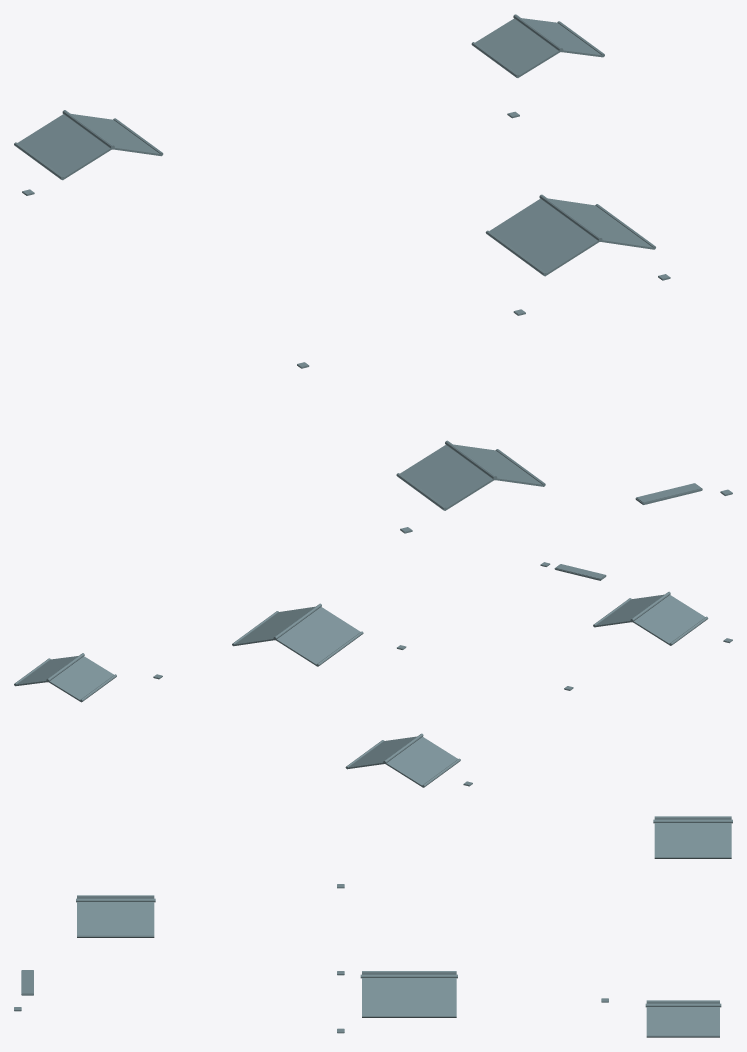
The model's file is SM_Roof.fbx.
3 views of the same model, one above another, from view 1: azimuth 30°, elevation 25°; view 2: azimuth 150°, elevation 25°; view 3: azimuth 270°, elevation 25° (orthographic). The views are drawn at different scales.
Parts seen in each view (by area): view 1: SM_Roof; view 2: SM_Roof; view 3: SM_Roof.
Boxes of the visible parts, bbox=[...] form: SM_Roof: bbox=[14, 14, 732, 533]; SM_Roof: bbox=[14, 562, 732, 787]; SM_Roof: bbox=[14, 816, 732, 1037].
Size of the model in its own units: 5471 by 7347 by 1115.
